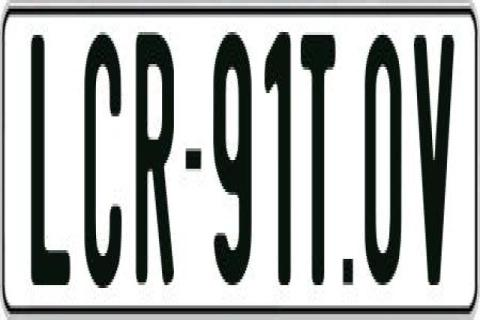0: (212, 32, 256, 288), (362, 32, 402, 291), (261, 23, 290, 276)
C: (81, 27, 119, 286)
L: (29, 26, 75, 291)
R: (134, 32, 178, 288)
T: (300, 29, 338, 294)
V: (410, 29, 454, 282)
